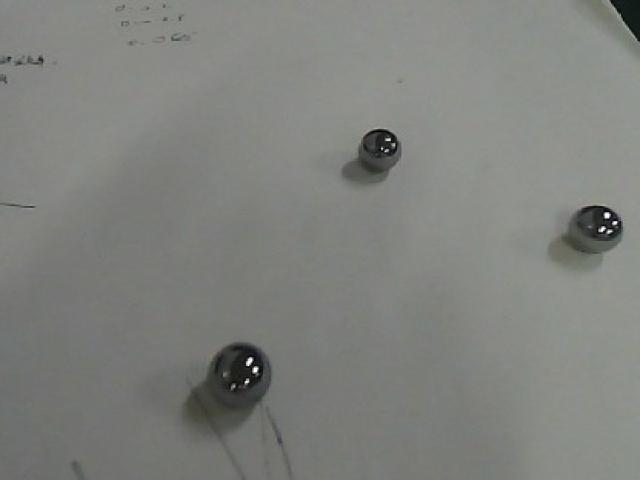steel-ball: (176, 323, 302, 431), (552, 174, 636, 281), (342, 105, 423, 186)
